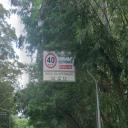speed_limit_40: (45, 53, 57, 68)
